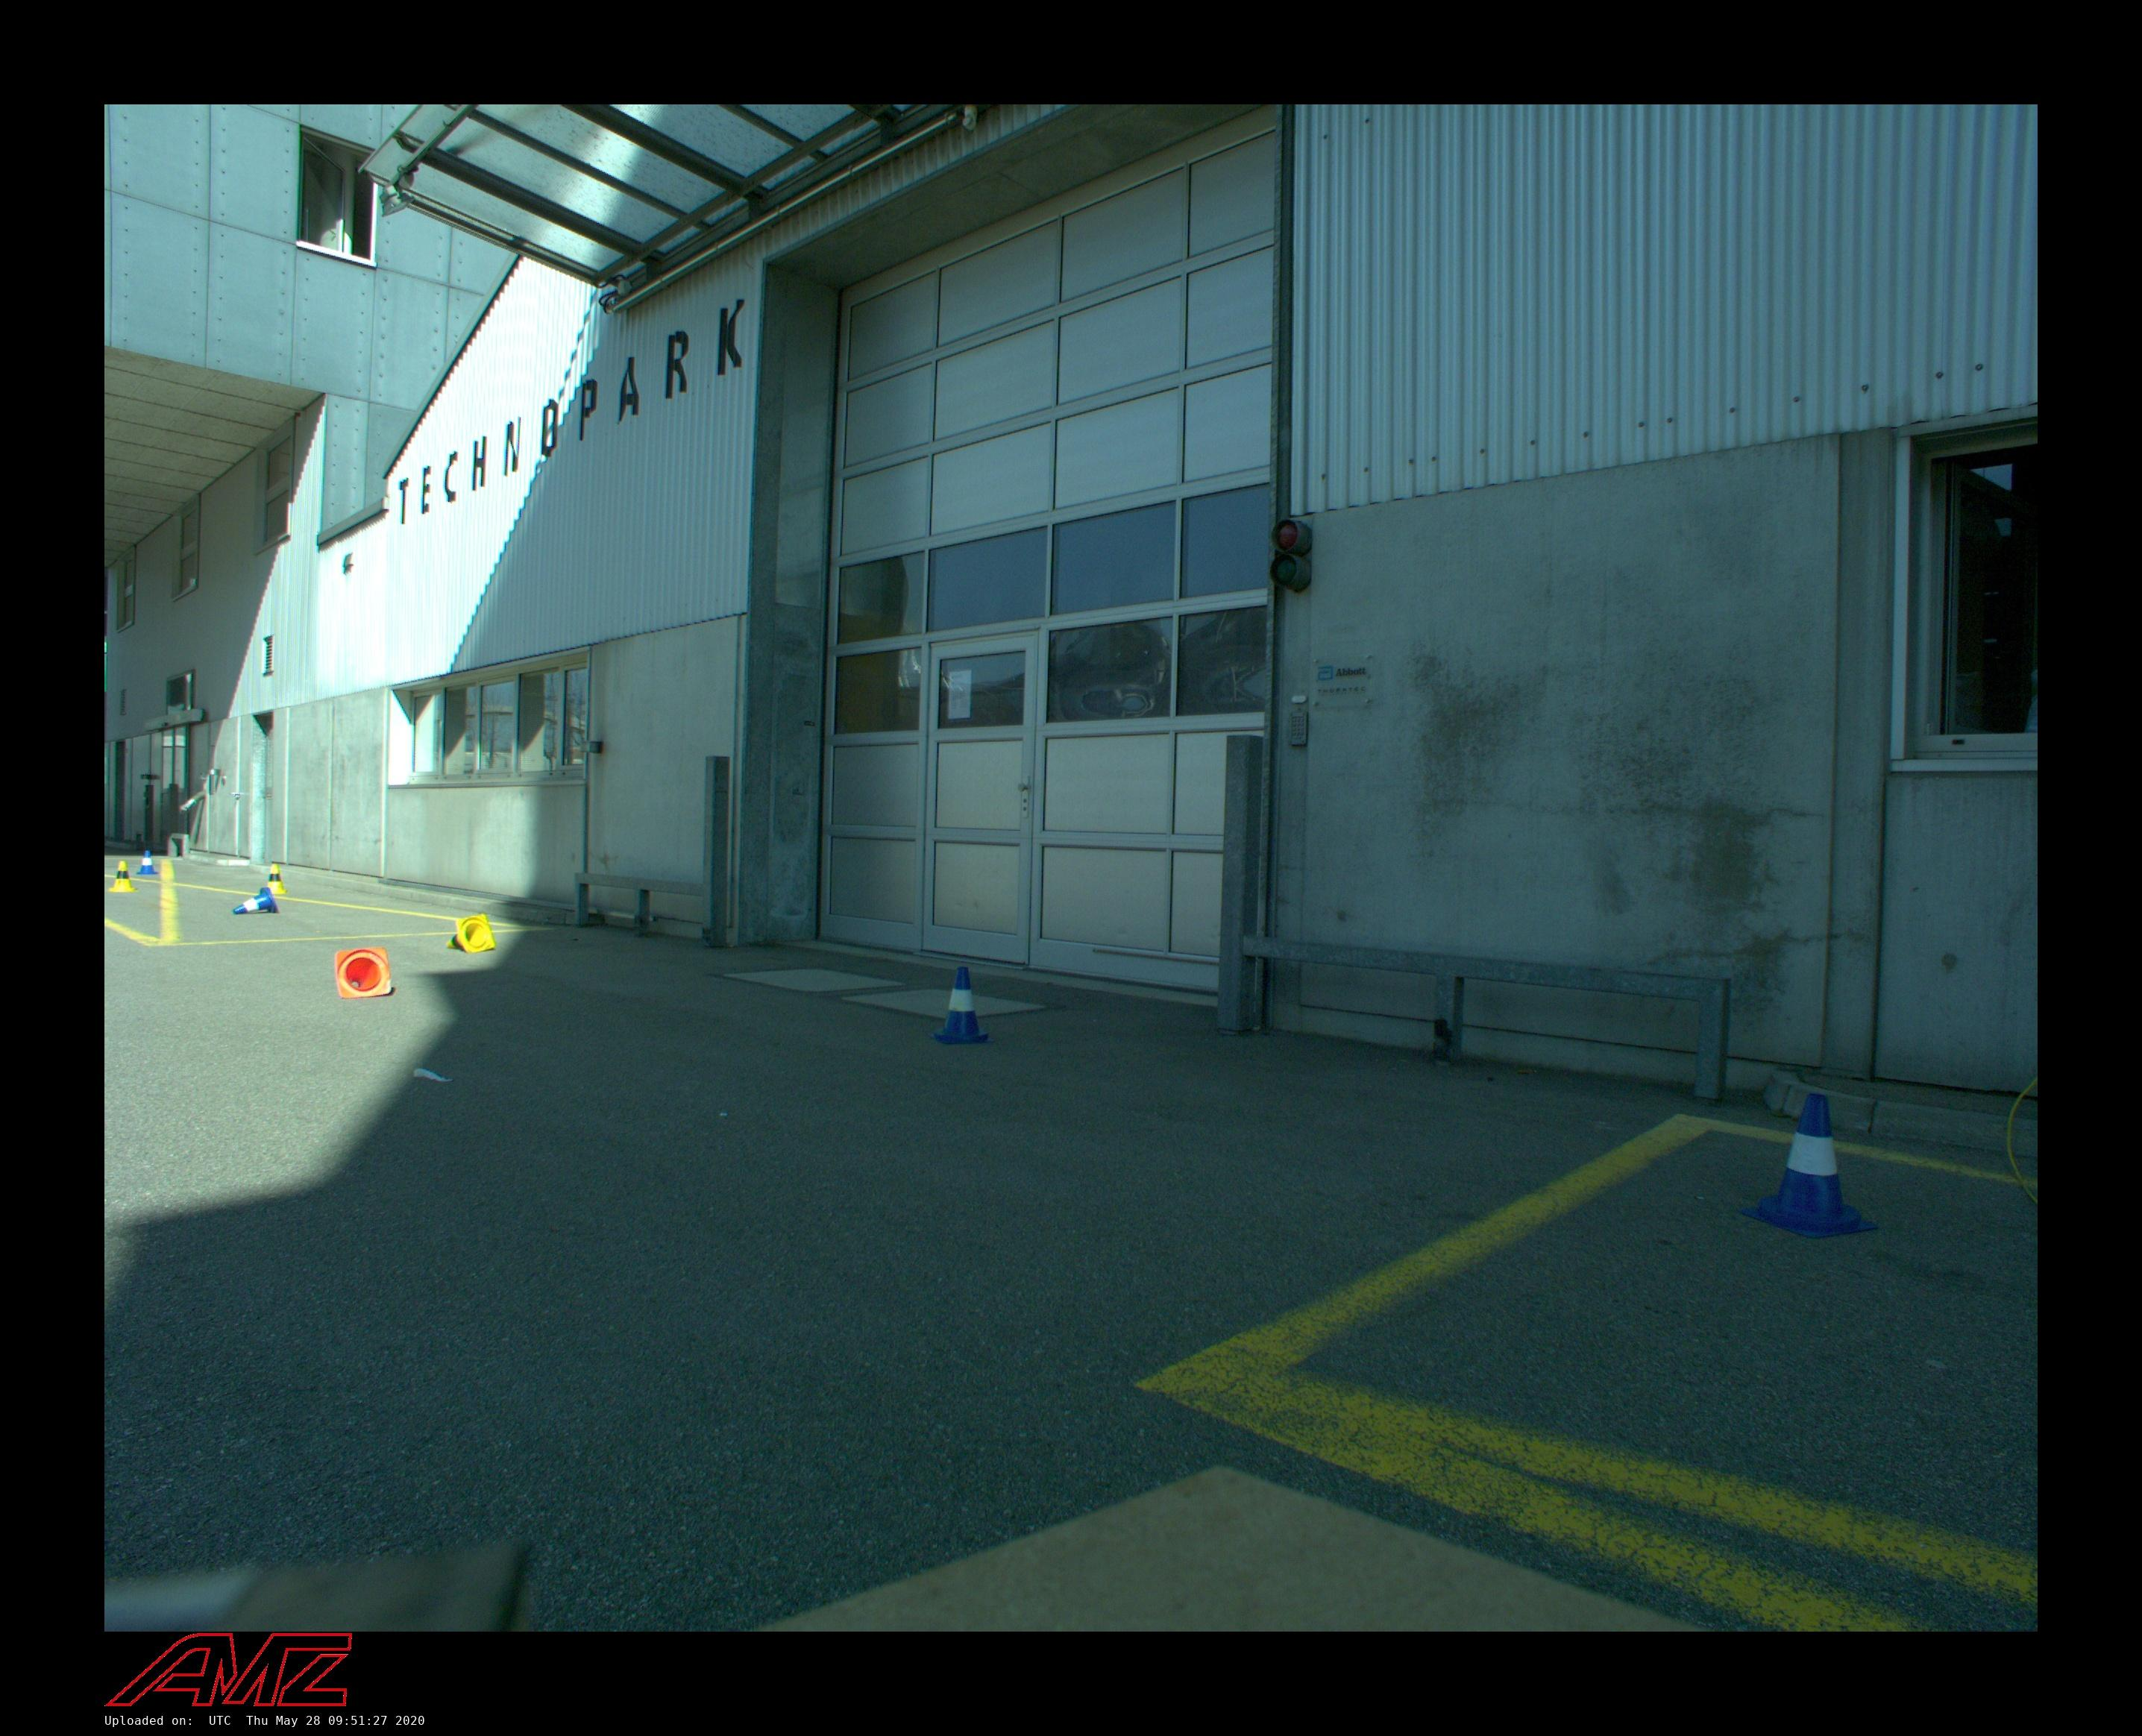blue_cone: (1742, 1093, 1878, 1238), (928, 967, 992, 1045), (232, 887, 278, 914), (136, 850, 158, 875)
orange_cone: (335, 948, 392, 999)
yellow_cone: (446, 914, 496, 953), (108, 861, 136, 893), (264, 863, 287, 895)
